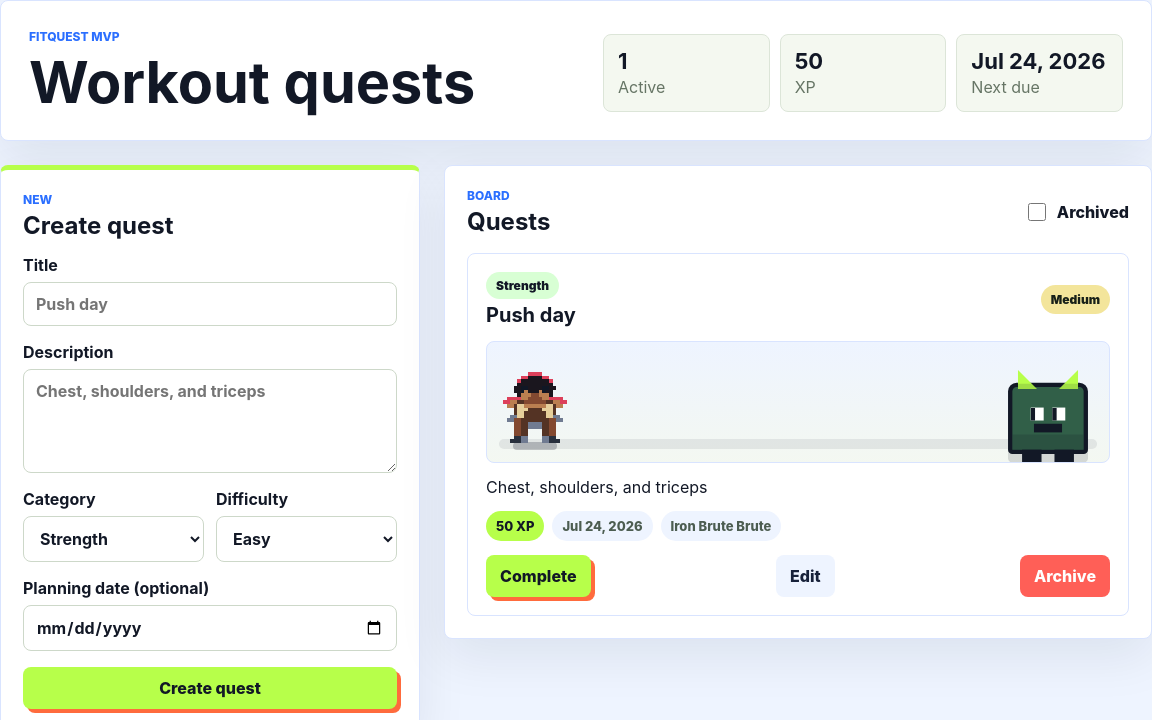
Scenario: Quests › archives and restores a quest
Check: the text "Push day" is shown, box [486,303,576,327]
Click the button "Archive": (1065, 576) [1020,555,1110,597]
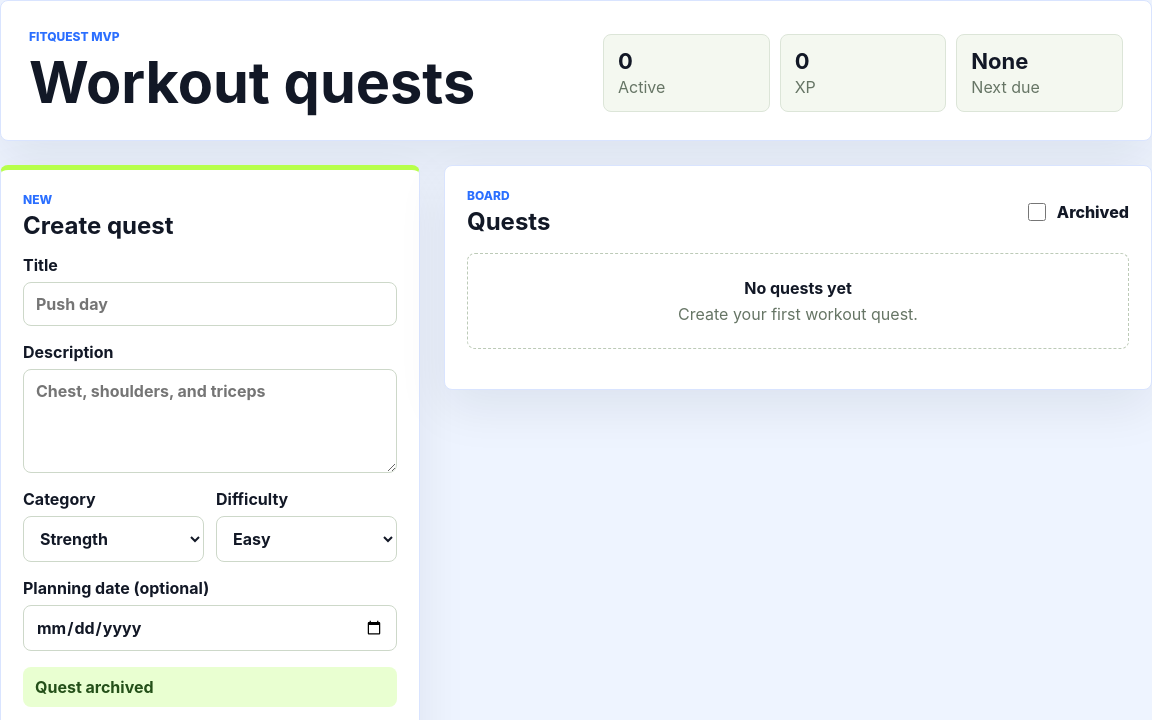
Check: the text "Quest archived" is shown, box [23,667,397,707]
Click the checkbox labelled "Archived": (1037, 212) [1028,203,1046,221]
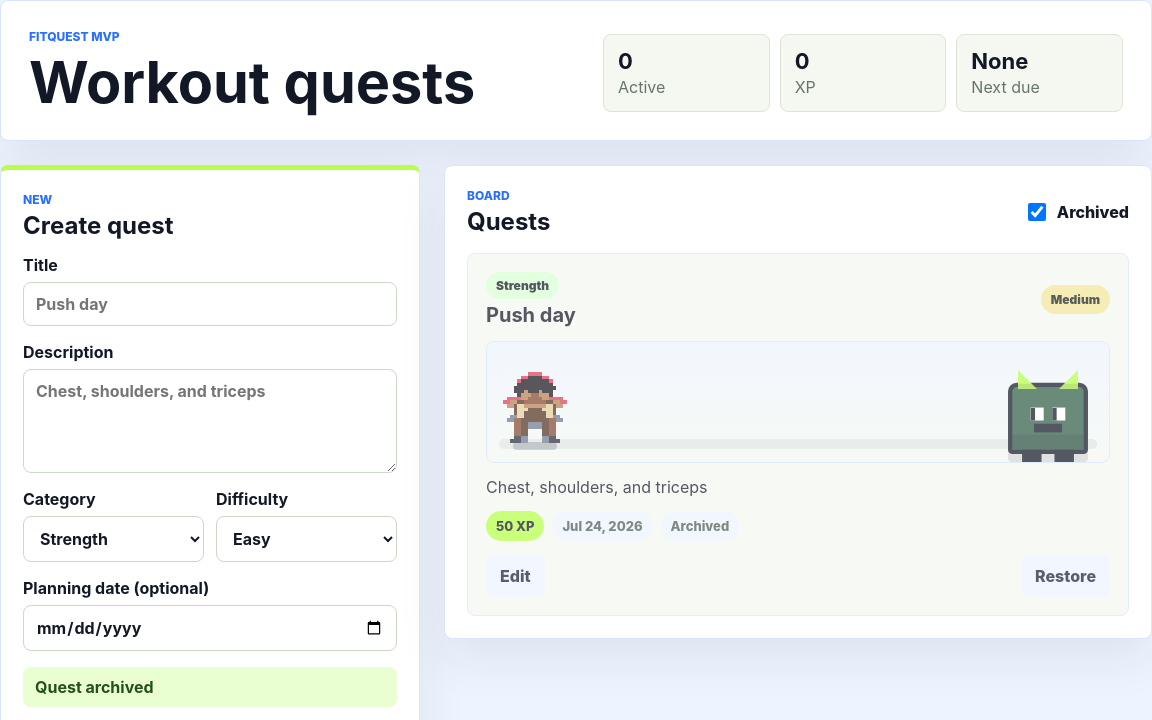
Check: the text "Archived" is shown, box [1024,200,1129,224]
Click the button "Restore": (1066, 576) [1021,555,1110,597]
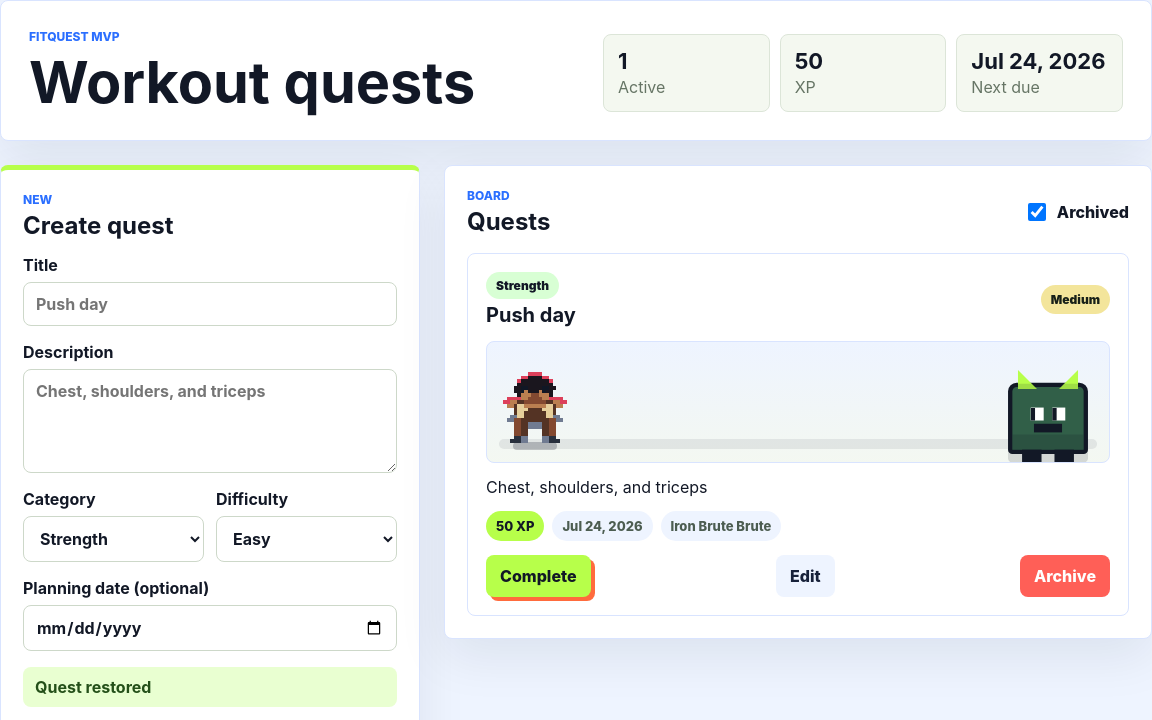
Check: the text "Quest restored" is shown, box [23,667,397,707]
